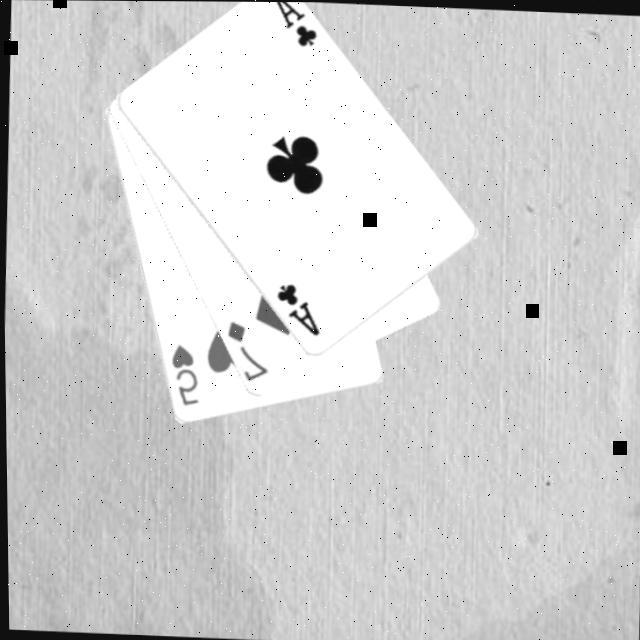5H: (164, 343, 202, 411)
7D: (220, 319, 270, 386)
AC: (268, 280, 322, 340), (267, 2, 321, 52)
